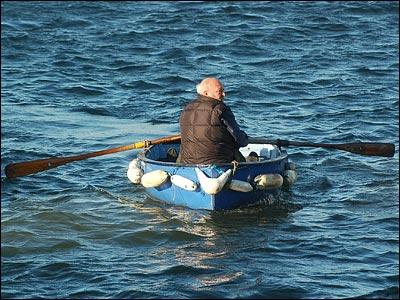person: (179, 79, 251, 167)
